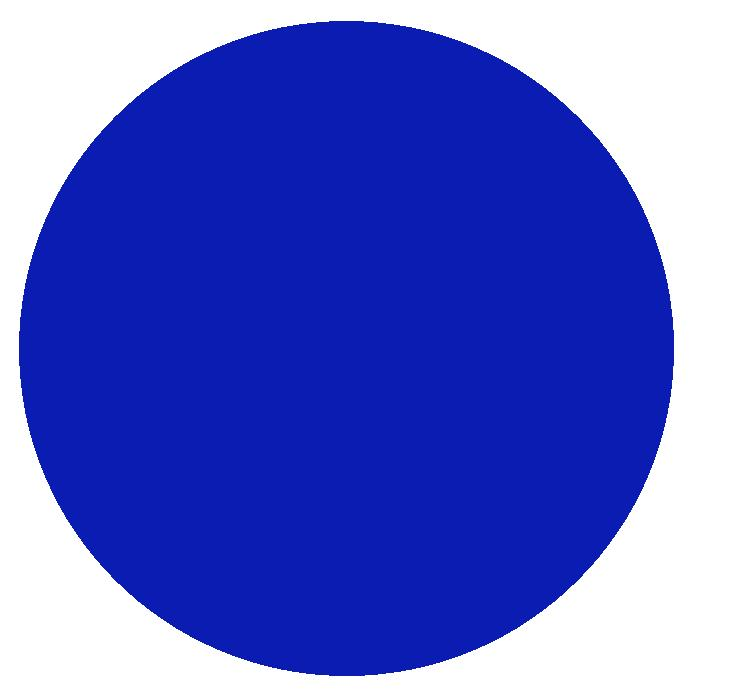blue_circle: (7, 6, 693, 688)
